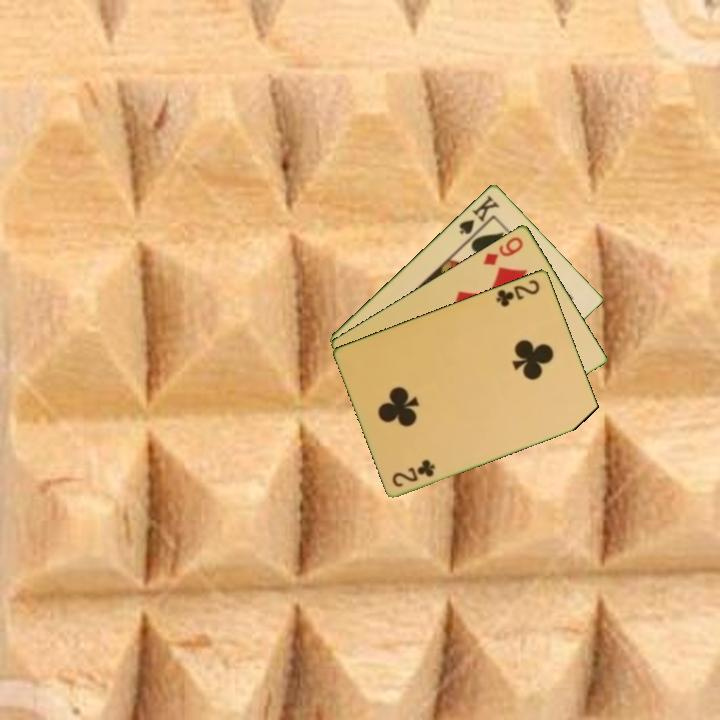2c: (492, 276, 543, 310), (389, 457, 438, 490)
9d: (480, 233, 526, 268)
Ks: (455, 191, 502, 242)
